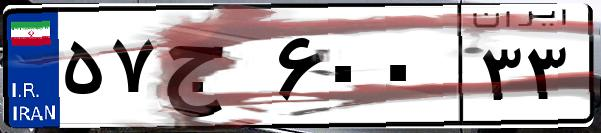0: (385, 28, 445, 110), (330, 28, 385, 110)
3: (475, 38, 525, 113), (525, 38, 570, 115)
5: (57, 26, 110, 100)
6: (270, 28, 330, 110)
7: (110, 28, 158, 98)
ج: (158, 20, 270, 120)
